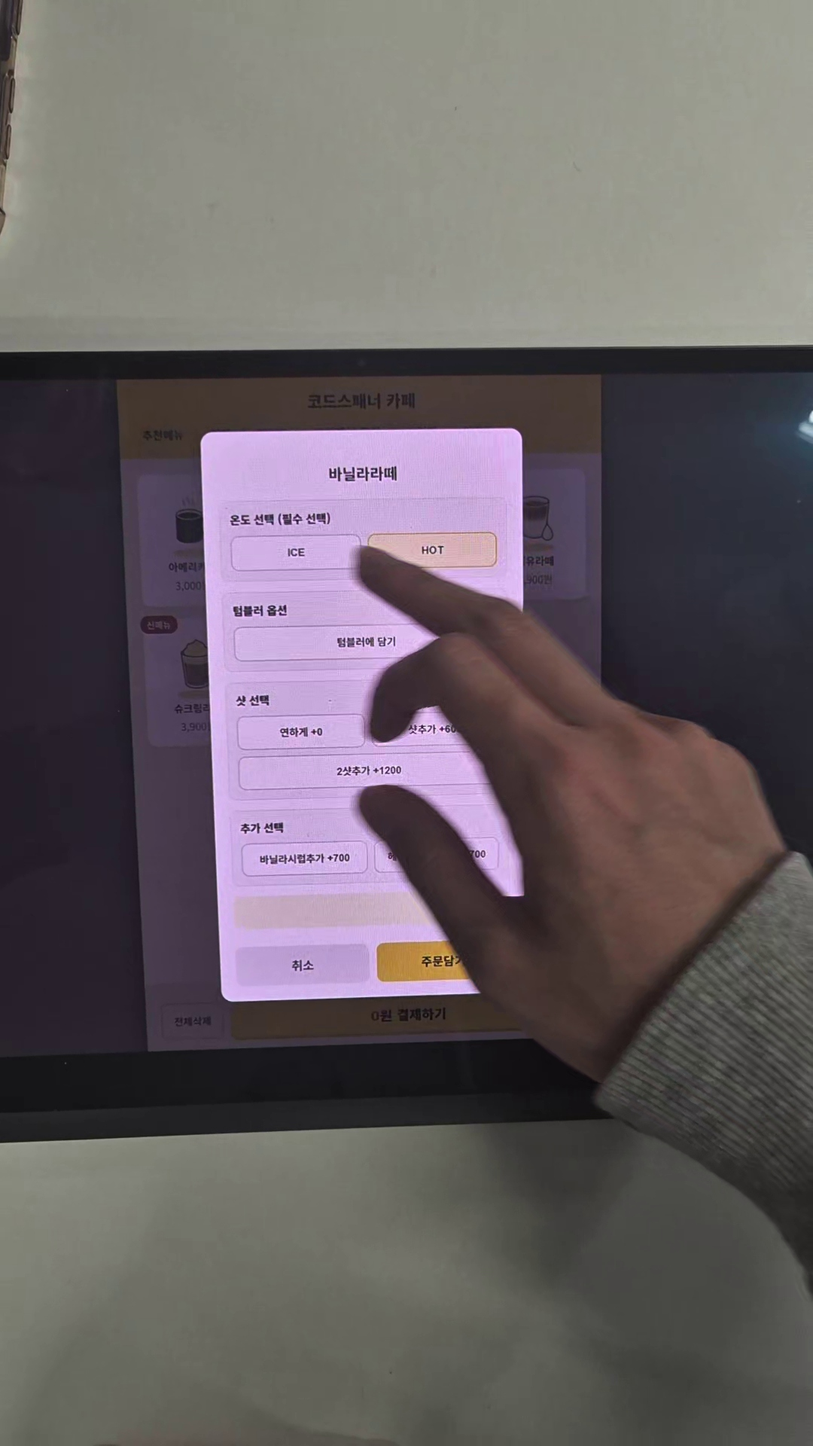action_button: (237, 942, 369, 987), (378, 936, 510, 981)
option_button: (239, 753, 495, 792), (234, 622, 490, 660), (242, 840, 368, 878), (369, 533, 495, 571), (234, 535, 359, 573), (240, 713, 366, 750), (371, 710, 497, 747)
popup_modal: (200, 426, 541, 1000)
